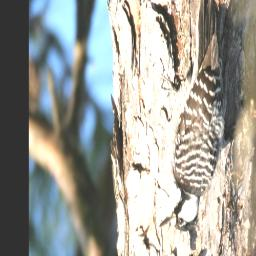Woodpecker: (159, 0, 226, 233)
